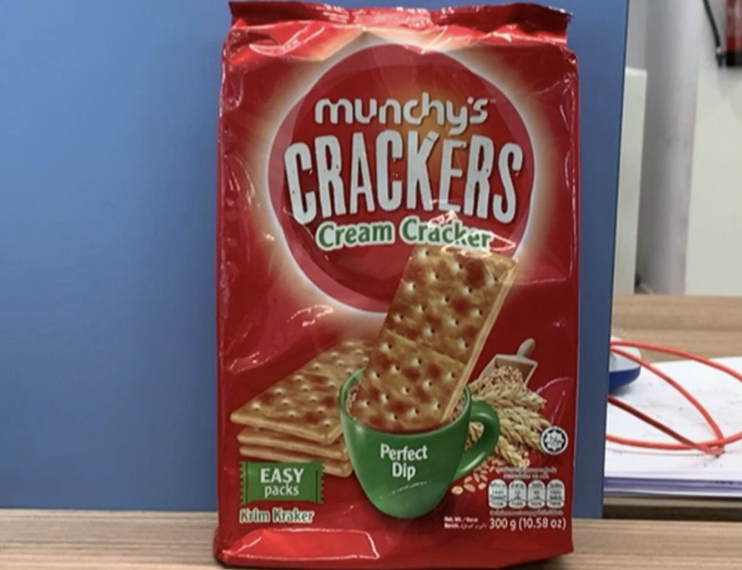crackers_450g: (238, 64, 572, 537)
